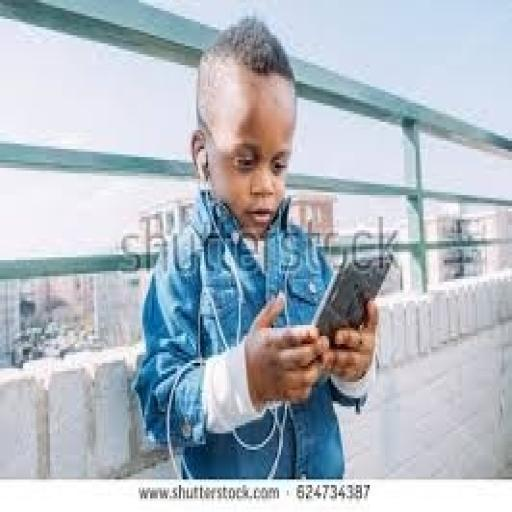listening_to_music: (131, 14, 381, 480)
